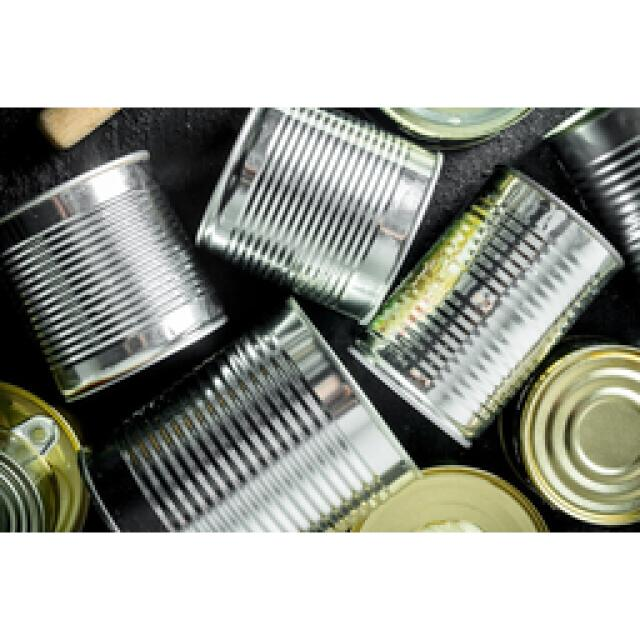alumunium: (195, 108, 618, 445), (108, 295, 542, 530), (2, 150, 225, 400), (520, 345, 638, 522), (0, 382, 115, 530), (588, 138, 638, 268)
